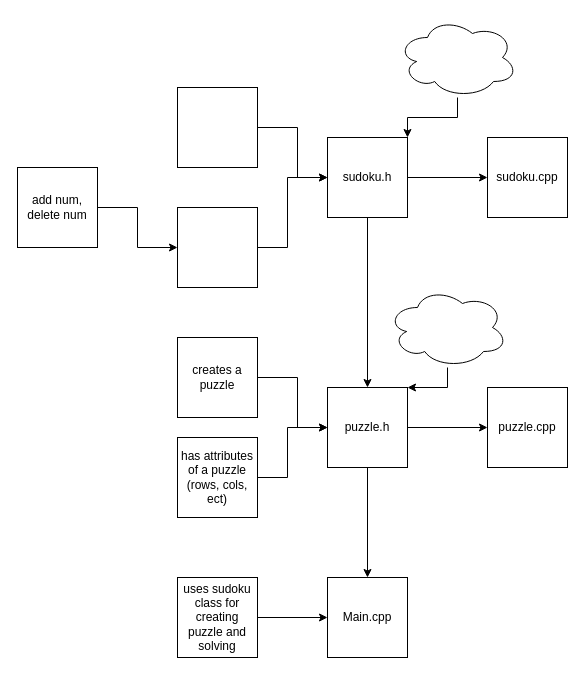
Image size: 585x675. Some labels were removed from this diagram. The shapes that lost their labels are listed below. From the top down, each one's box as (x1, y1, x2, y2) in pixels, then its label:
(396, 16, 518, 98): child class
(176, 86, 258, 168): sudoku game class
(176, 206, 258, 288): has functions to manipulate puzzle (input from user)
(386, 286, 508, 368): parent class
